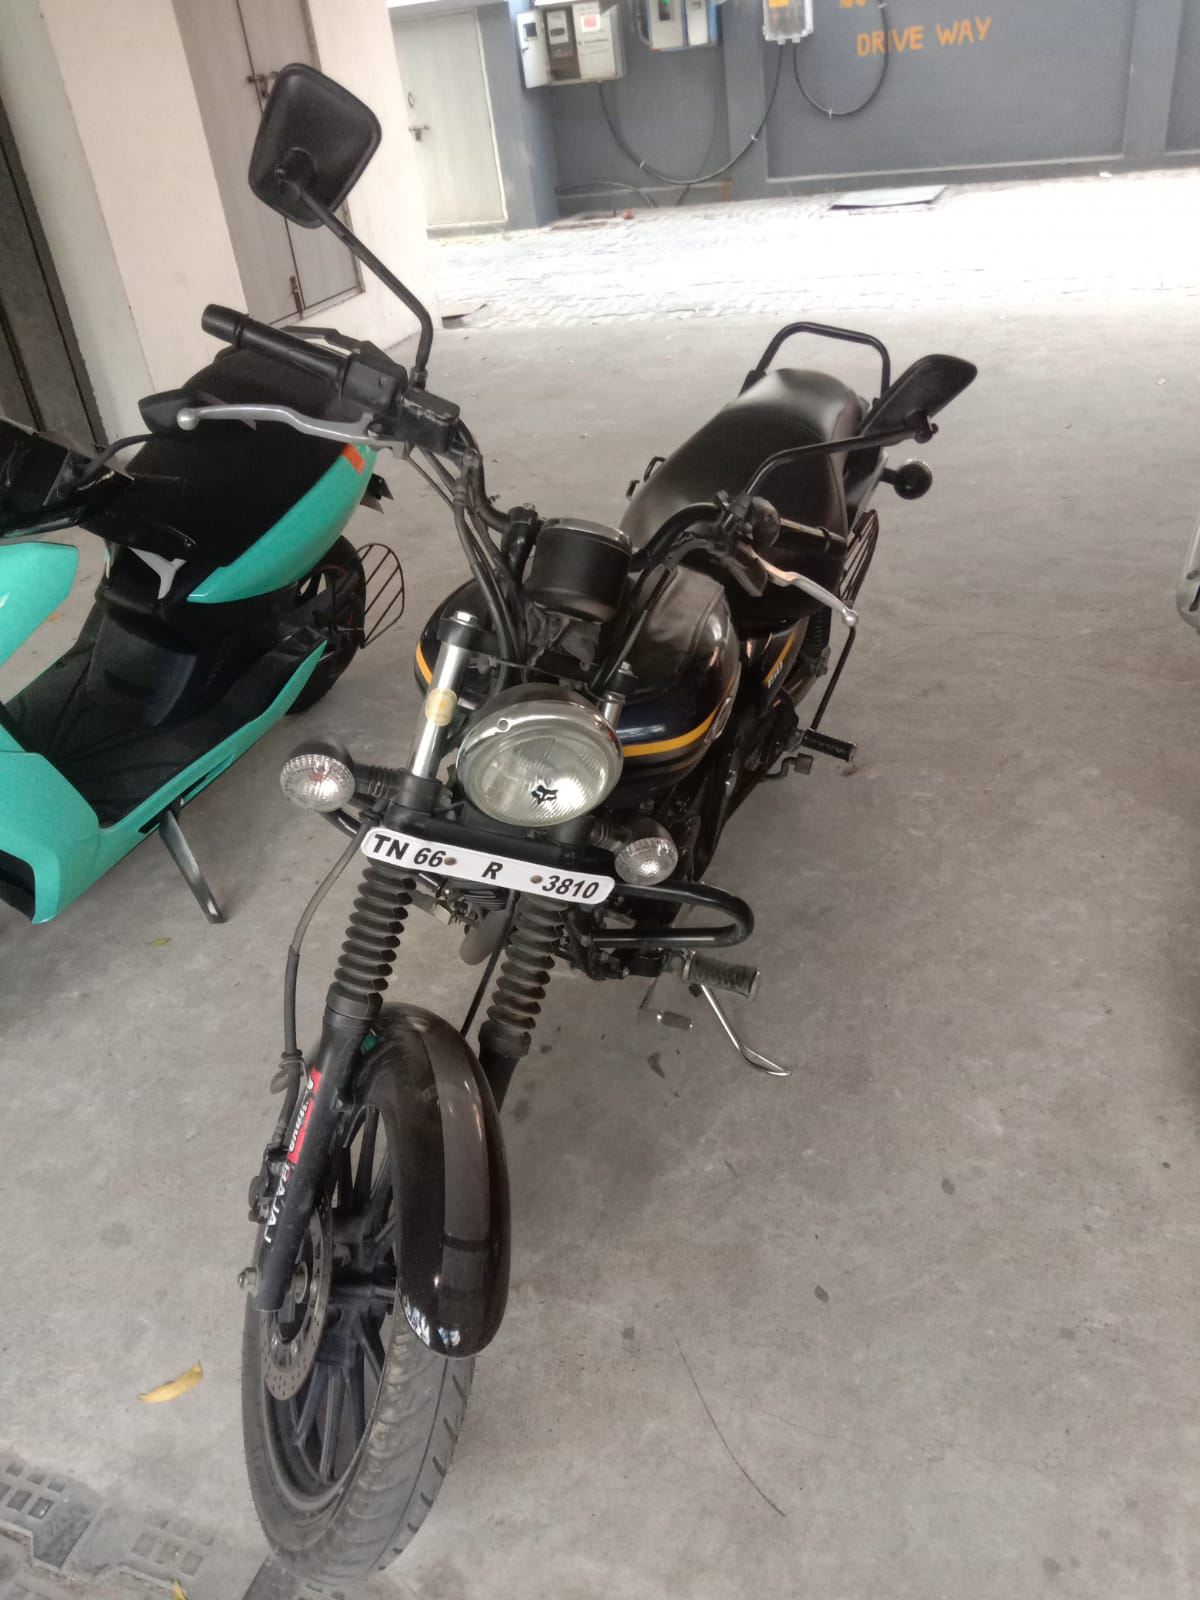bike: (189, 65, 1058, 1565)
numberplate: (356, 817, 649, 938)
